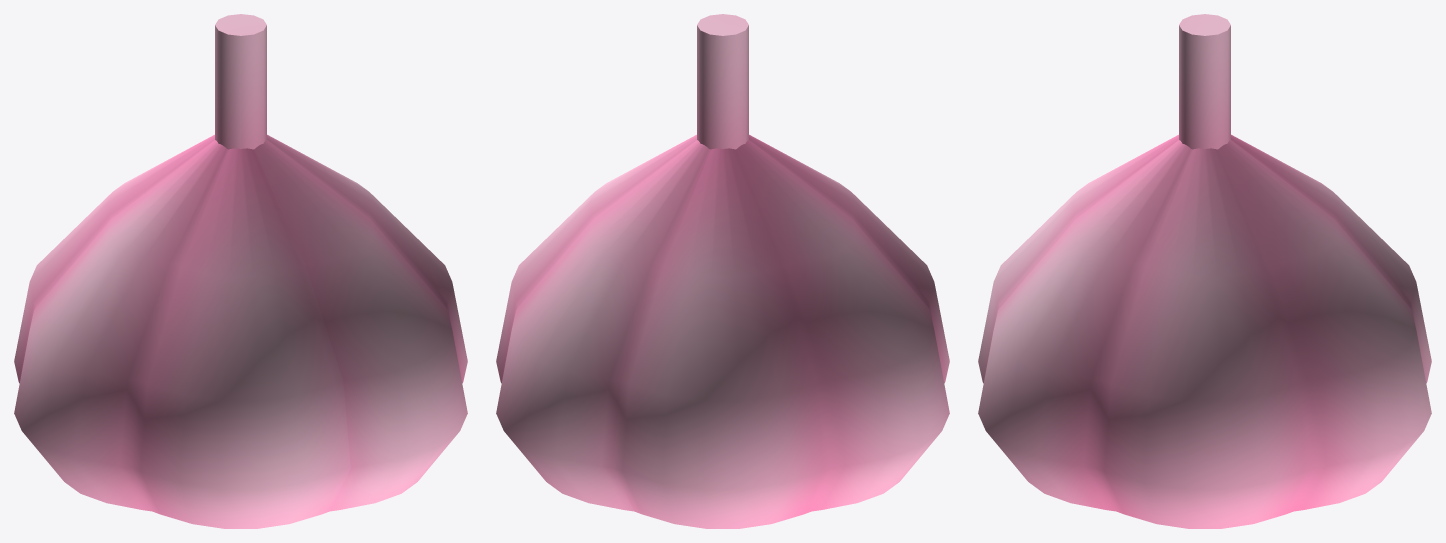
File: Garlic.FBX
3 renders of one model, left to right at view 1: azimuth 30°, elevation 25°; view 2: azimuth 150°, elevation 25°; view 3: azimuth 270°, elevation 25°, orthographic.
Parts seen in each view (by area): view 1: Garlic; view 2: Garlic; view 3: Garlic.
Part boxes in pixels (x1,y1,x2,y2): Garlic: (14,14,467,528); Garlic: (496,14,949,528); Garlic: (978,14,1431,528).
Bounding box in the file's own units: 117 × 120 × 110.
